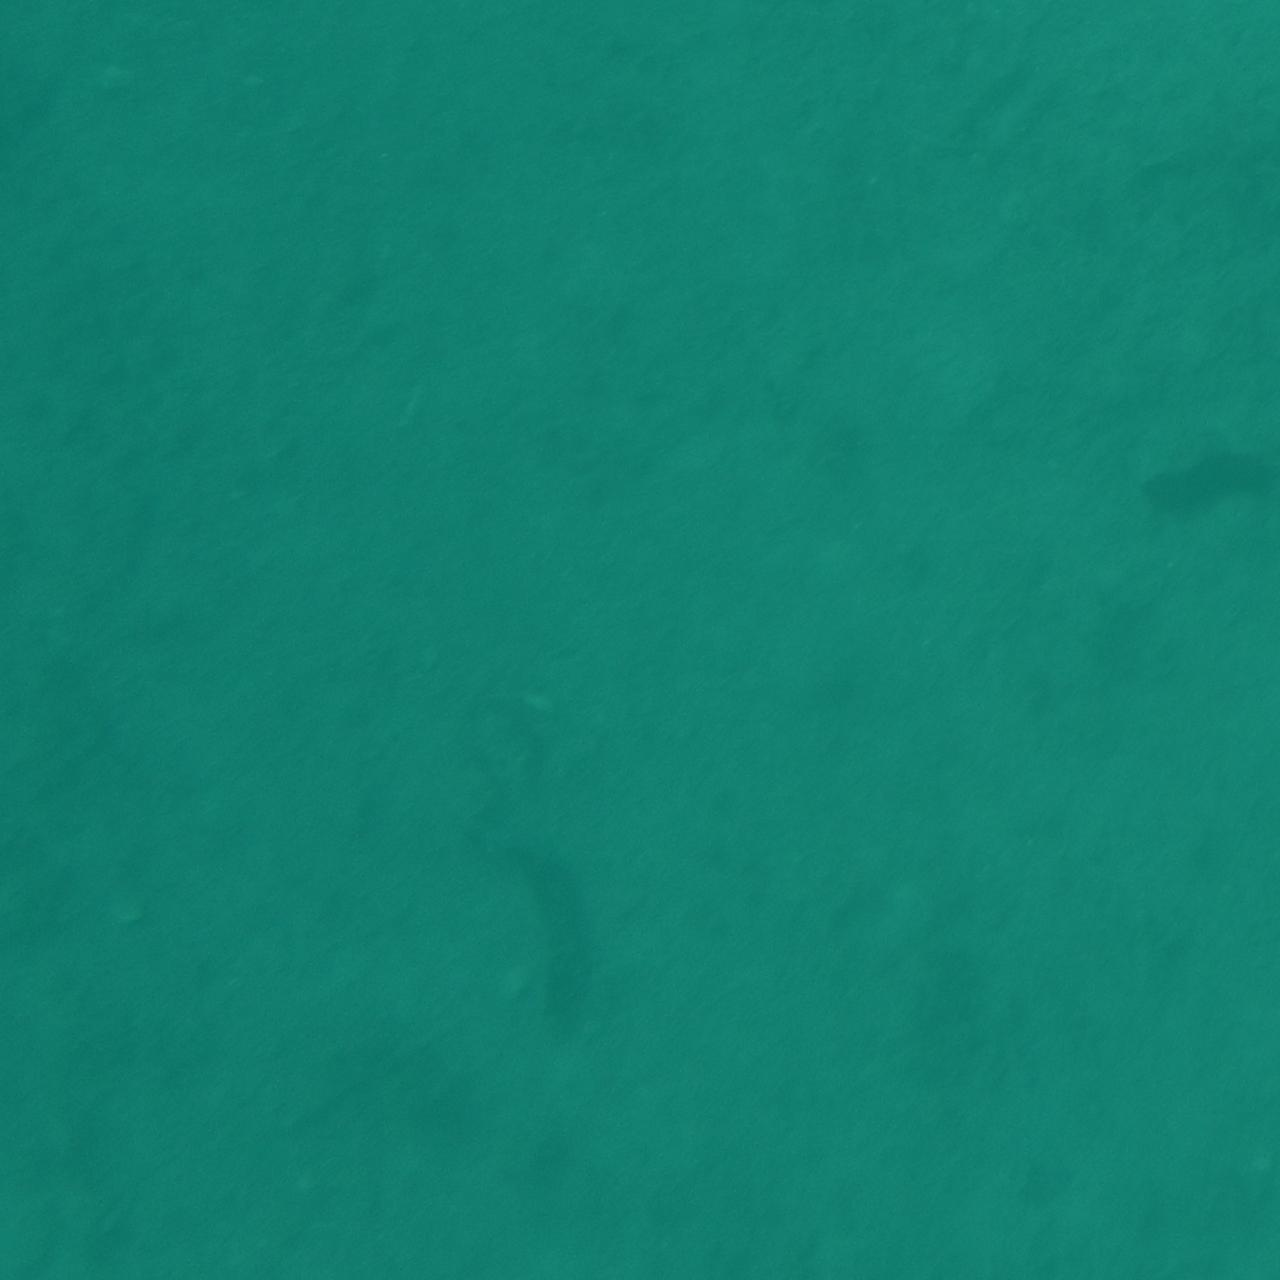Holothuria tubulosa: (458, 804, 595, 1046), (0, 915, 86, 1148), (1110, 438, 1280, 551), (1182, 192, 1280, 306)
